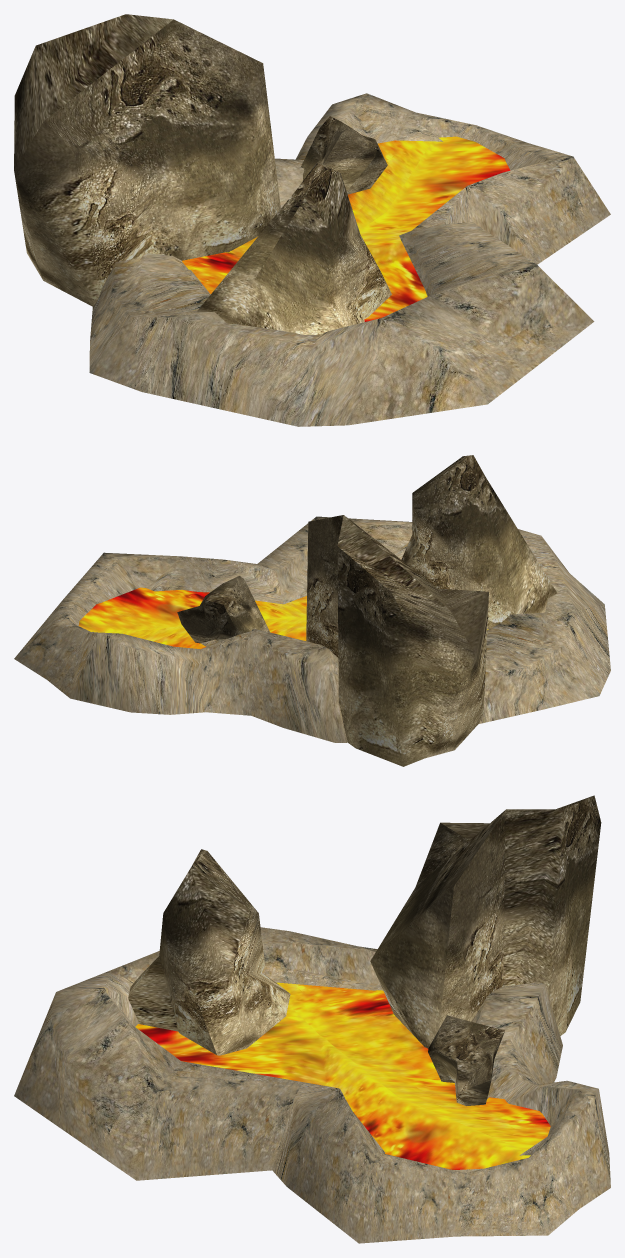
The model's file is pir_m_prp_cav_lava_pool_hot.fbx.
3 views of the same model, one above another, from view 1: azimuth 30°, elevation 25°; view 2: azimuth 150°, elevation 25°; view 3: azimuth 270°, elevation 25° (orthographic). The views are drawn at different scales.
Visible parts, largest first — view 1: polySurface1, Rock_43, Rock_48, pCylinder7, Rock_49; view 2: polySurface1, Rock_43, Rock_48, pCylinder7, Rock_49; view 3: polySurface1, Rock_43, pCylinder7, Rock_48, Rock_49.
Boxes of the visible parts, x1=… form: polySurface1: x1=89, y1=93, x2=610, y2=426; Rock_43: x1=14, y1=14, x2=280, y2=306; Rock_48: x1=197, y1=161, x2=391, y2=334; pCylinder7: x1=182, y1=136, x2=510, y2=321; Rock_49: x1=301, y1=116, x2=387, y2=194; polySurface1: x1=14, y1=516, x2=610, y2=742; Rock_43: x1=306, y1=515, x2=488, y2=766; Rock_48: x1=401, y1=455, x2=557, y2=629; pCylinder7: x1=78, y1=587, x2=488, y2=649; Rock_49: x1=177, y1=576, x2=270, y2=643; polySurface1: x1=14, y1=927, x2=610, y2=1243; Rock_43: x1=370, y1=795, x2=601, y2=1048; pCylinder7: x1=135, y1=982, x2=550, y2=1169; Rock_48: x1=128, y1=849, x2=290, y2=1055; Rock_49: x1=428, y1=1015, x2=504, y2=1105.
Size of the model in its own units: 3200 by 1291 by 2842.
Materials: 3 (3 with a texture image).
